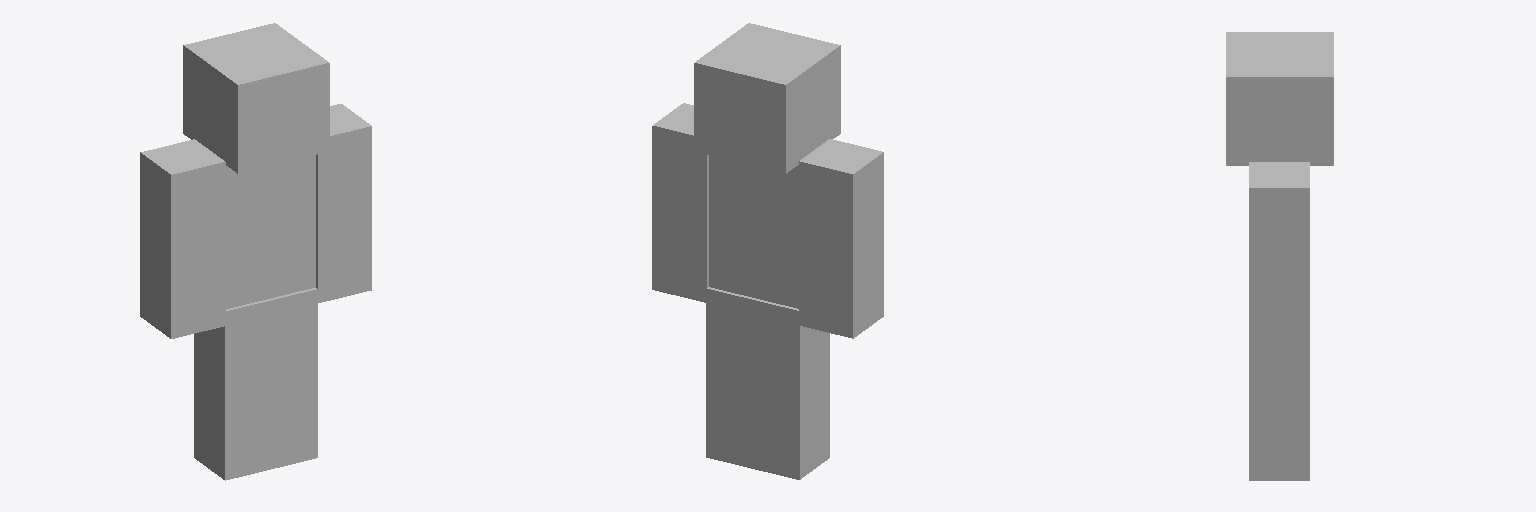
File: player.obj
3 renders of one model, left to right at view 1: azimuth 30°, elevation 25°; view 2: azimuth 150°, elevation 25°; view 3: azimuth 270°, elevation 25°, orthographic.
Visible parts, largest first — view 1: Box3, Box2, Duplicate2, Box1, Duplicate, Duplicate1; view 2: Box3, Box2, Duplicate2, Box1, Duplicate, Duplicate1; view 3: Box3, Duplicate, Duplicate1.
Part boxes in pixels (x1,y1,x2,y2): Box3: (183, 23, 329, 173); Box2: (140, 139, 225, 338); Duplicate2: (194, 299, 271, 480); Box1: (226, 155, 315, 308); Duplicate: (316, 104, 371, 302); Duplicate1: (271, 288, 317, 468); Box3: (694, 23, 840, 173); Box2: (799, 139, 883, 338); Duplicate2: (753, 298, 829, 479); Box1: (709, 155, 798, 308); Duplicate: (652, 103, 708, 302); Duplicate1: (706, 287, 754, 468); Box3: (1226, 32, 1333, 165); Duplicate: (1249, 162, 1309, 351); Duplicate1: (1249, 352, 1309, 480).
Size of the model in its own units: 17.25 by 33.14 by 8.1.